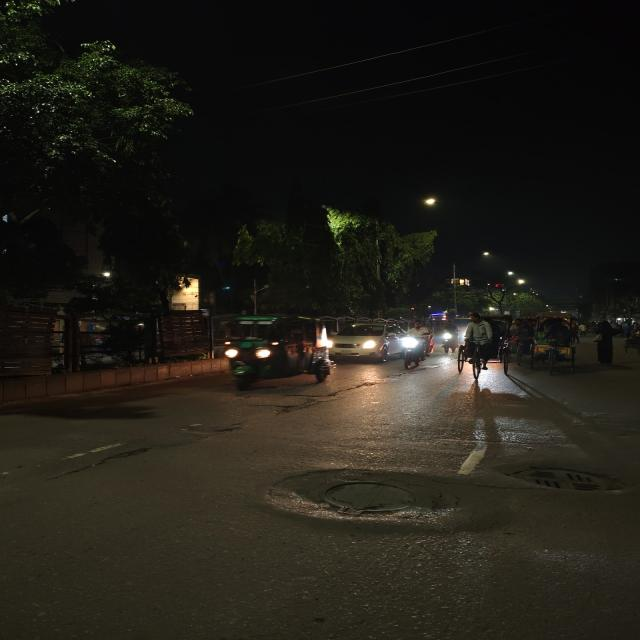car: (325, 319, 402, 360)
motorcycle: (397, 322, 436, 370)
pedestrian: (592, 318, 620, 364)
rickshaw: (214, 315, 338, 391), (456, 323, 514, 379), (527, 315, 582, 369), (504, 315, 541, 357)
